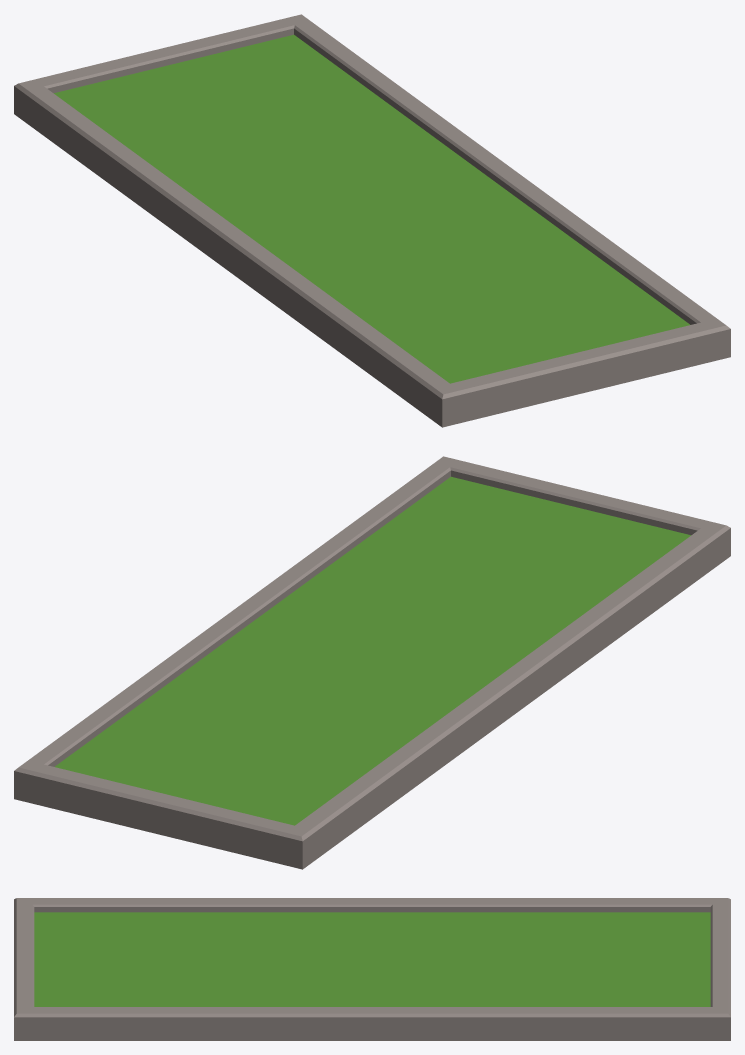
The model's file is GrassPart_01.fbx.
The picture shows the model from 3 angles, top to bottom: view 1: azimuth 30°, elevation 25°; view 2: azimuth 150°, elevation 25°; view 3: azimuth 270°, elevation 25°; orthographic projection. The views are drawn at different scales.
Parts seen in each view (by area): view 1: GrassPart_01; view 2: GrassPart_01; view 3: GrassPart_01.
Part boxes in pixels (x1,y1,x2,y2): GrassPart_01: (14, 14, 730, 427); GrassPart_01: (14, 456, 730, 869); GrassPart_01: (14, 898, 730, 1040).
Bounding box in the file's own units: 3.21 × 0.3314 × 8.24.
